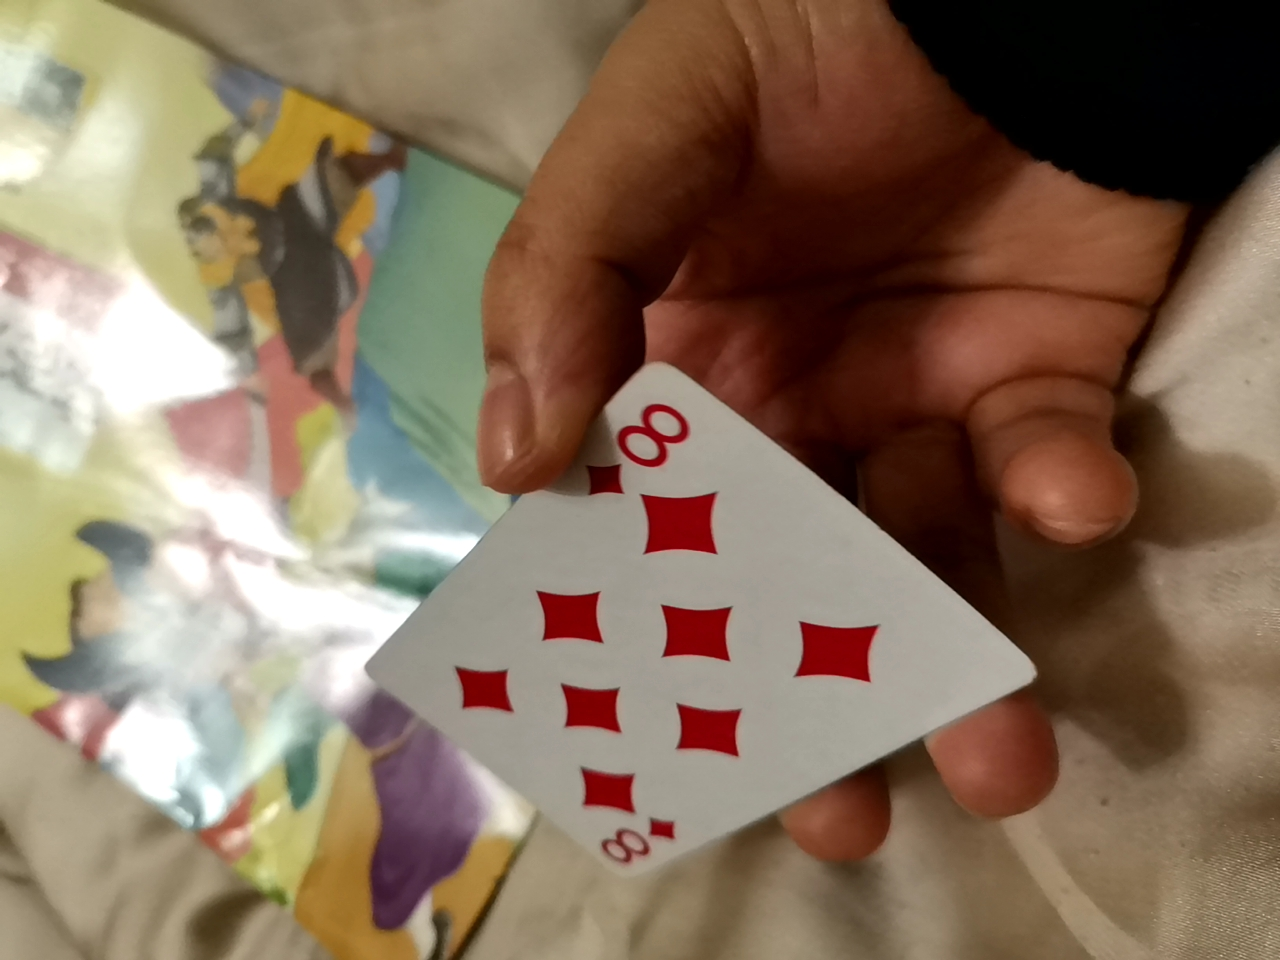fk 8: (349, 363, 1054, 881)
